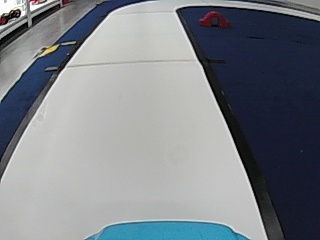bridge: (200, 10, 229, 27)
